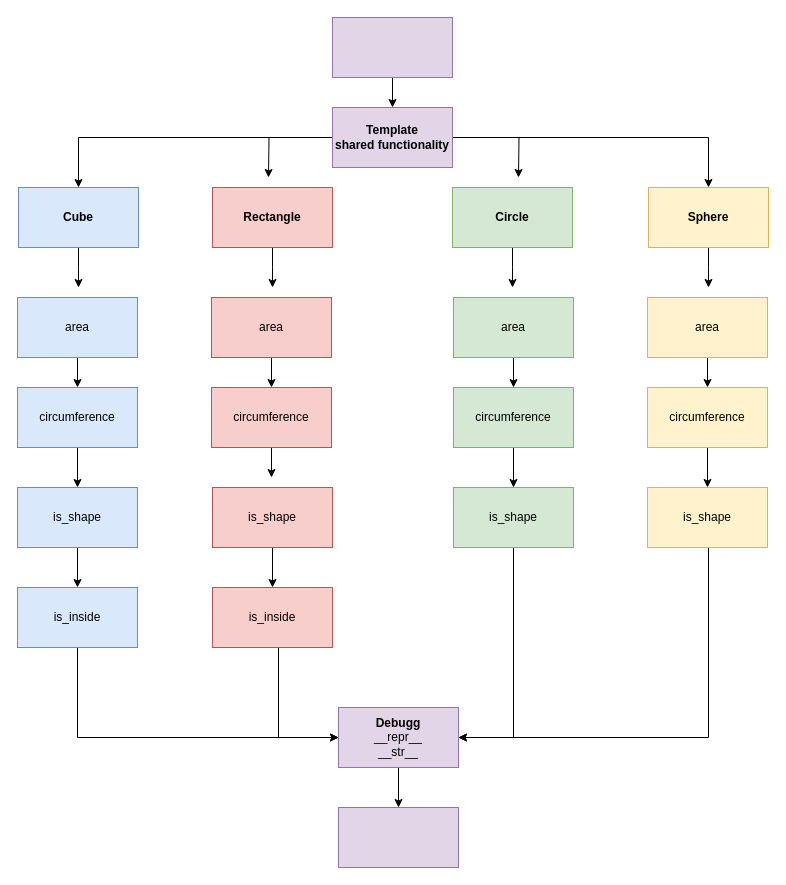
This 786x885 diagram has some shape labels left out. The shapes that lost their labels are listed below. From the top down, each one's box as (x1, y1, x2, y2) in pixels, then its label:
(332, 16, 452, 78): GeometryShape
(338, 806, 458, 868): Operator Overloard __eq__ __gt__
